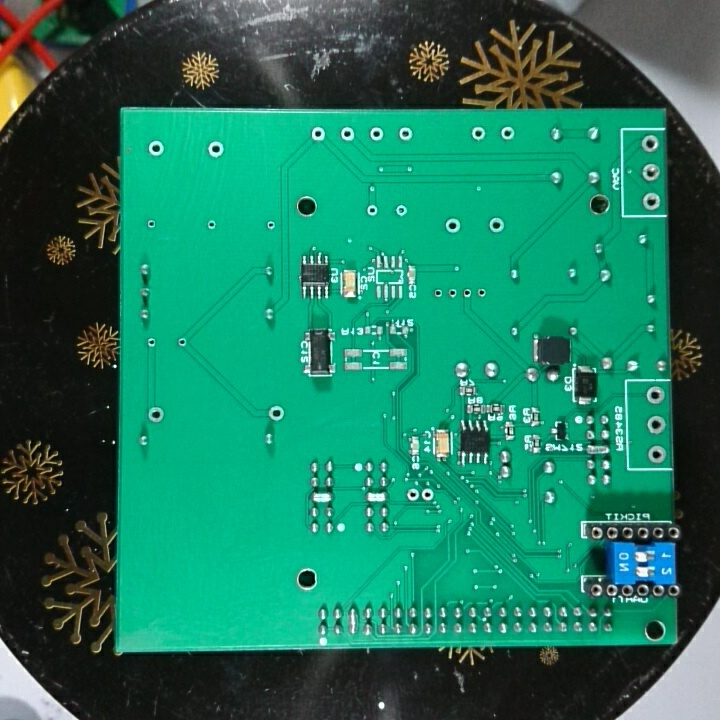F: (642, 412, 668, 438), (267, 401, 289, 426), (642, 385, 667, 407), (639, 132, 661, 156), (146, 401, 167, 426), (484, 215, 509, 235), (307, 124, 329, 146), (640, 160, 661, 183), (641, 191, 664, 212), (205, 139, 226, 160), (470, 122, 490, 144), (336, 124, 359, 143), (396, 124, 419, 143), (647, 443, 668, 463), (146, 140, 167, 159), (499, 123, 518, 143), (441, 215, 461, 233), (365, 126, 387, 142), (394, 202, 410, 223), (473, 280, 486, 304), (262, 218, 279, 236), (144, 336, 163, 352), (405, 486, 421, 505), (459, 283, 473, 304), (420, 486, 436, 504), (366, 203, 381, 220), (176, 333, 189, 352), (206, 216, 221, 232), (431, 284, 445, 300), (144, 218, 160, 231), (447, 286, 458, 303)
P: (362, 486, 391, 506), (308, 489, 339, 507), (346, 603, 361, 640), (583, 443, 613, 458)
